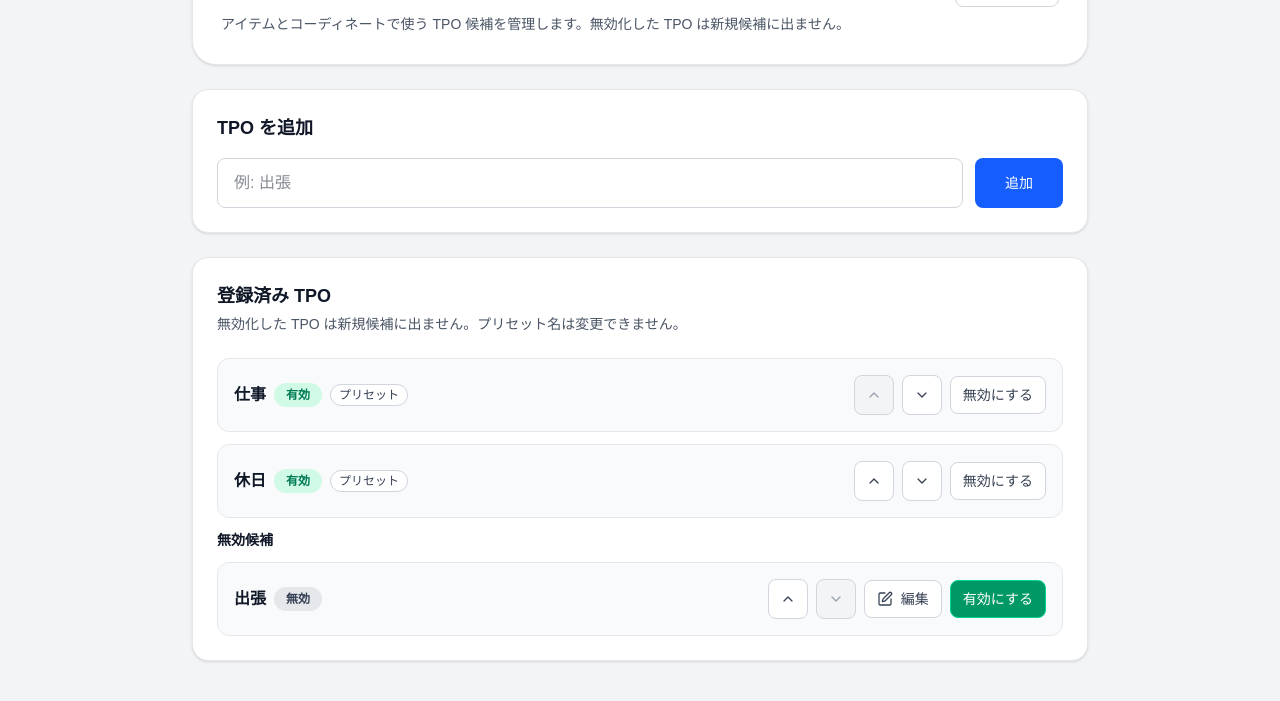
Scenario: SettingsTposPage › 名称更新失敗でも raw message を表示しない
(page scrolled)
Click the button "編集".
click(903, 599)  # box [864, 580, 942, 618]
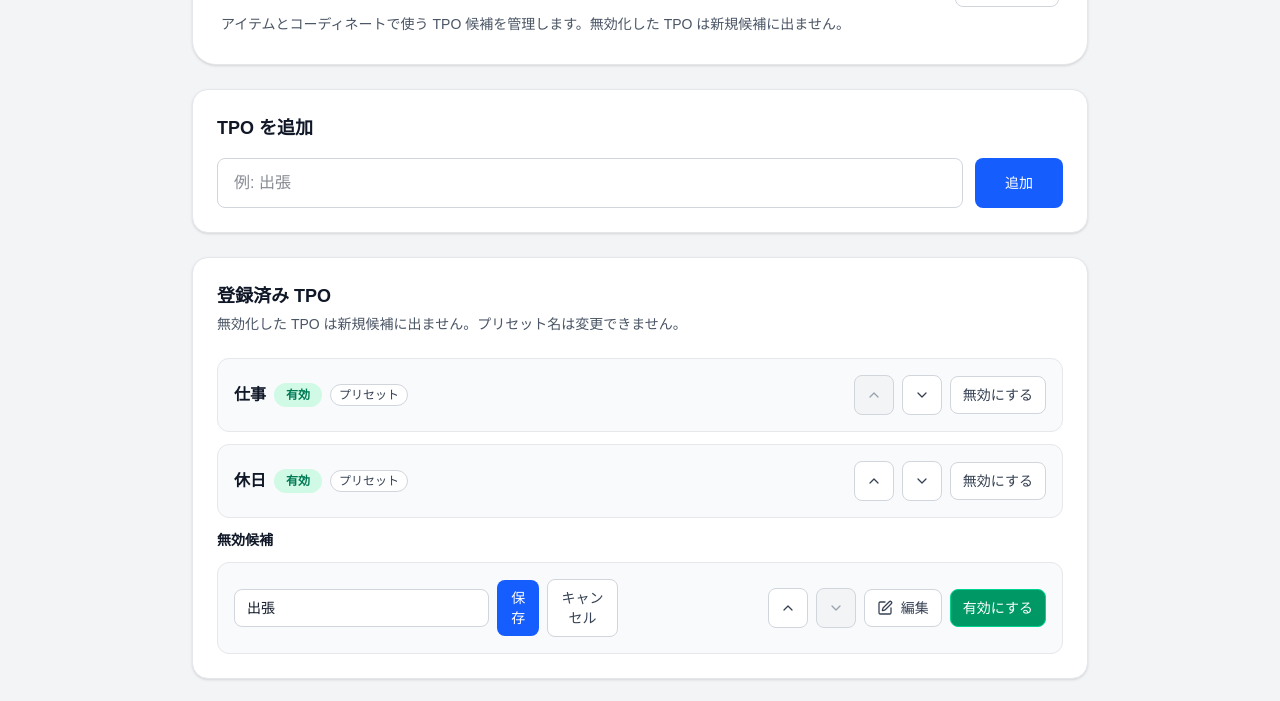
Click the button "保存".
click(518, 608)  # box [497, 580, 539, 636]
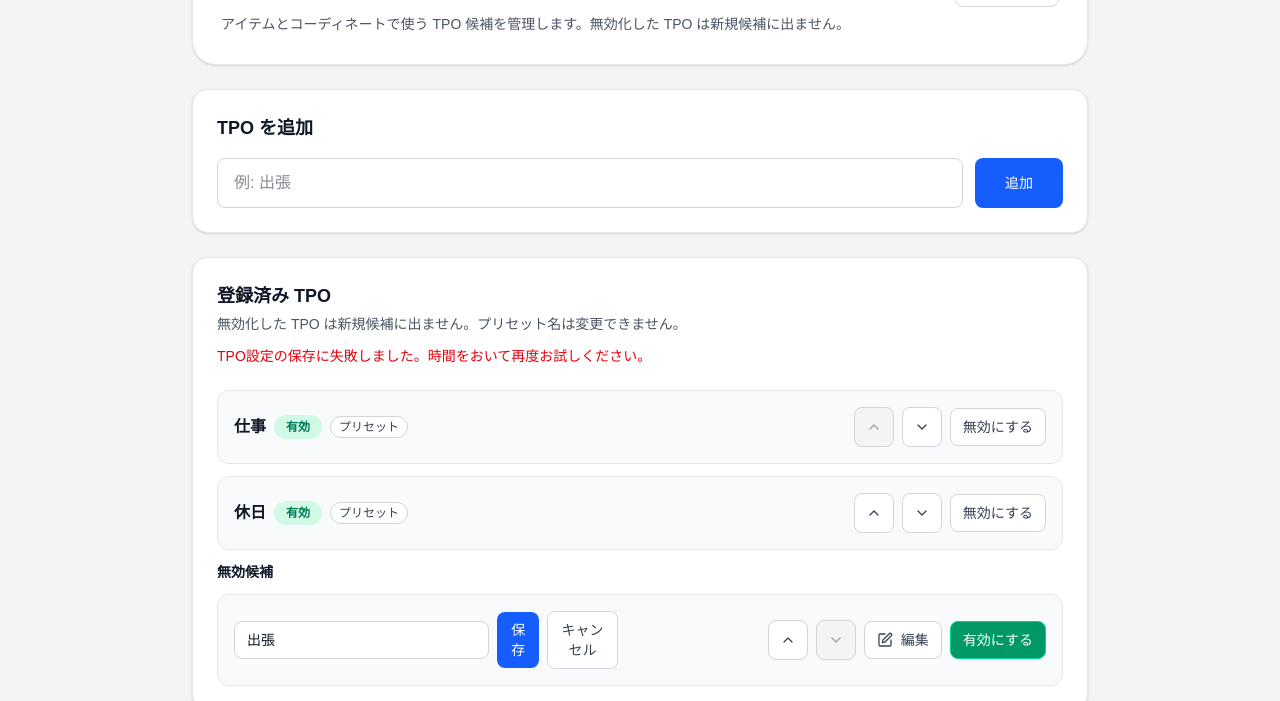
Now the text "TPO設定の保存に失敗しました。時間をおいて再度お試しください。" is shown, box [217, 348, 651, 364]
